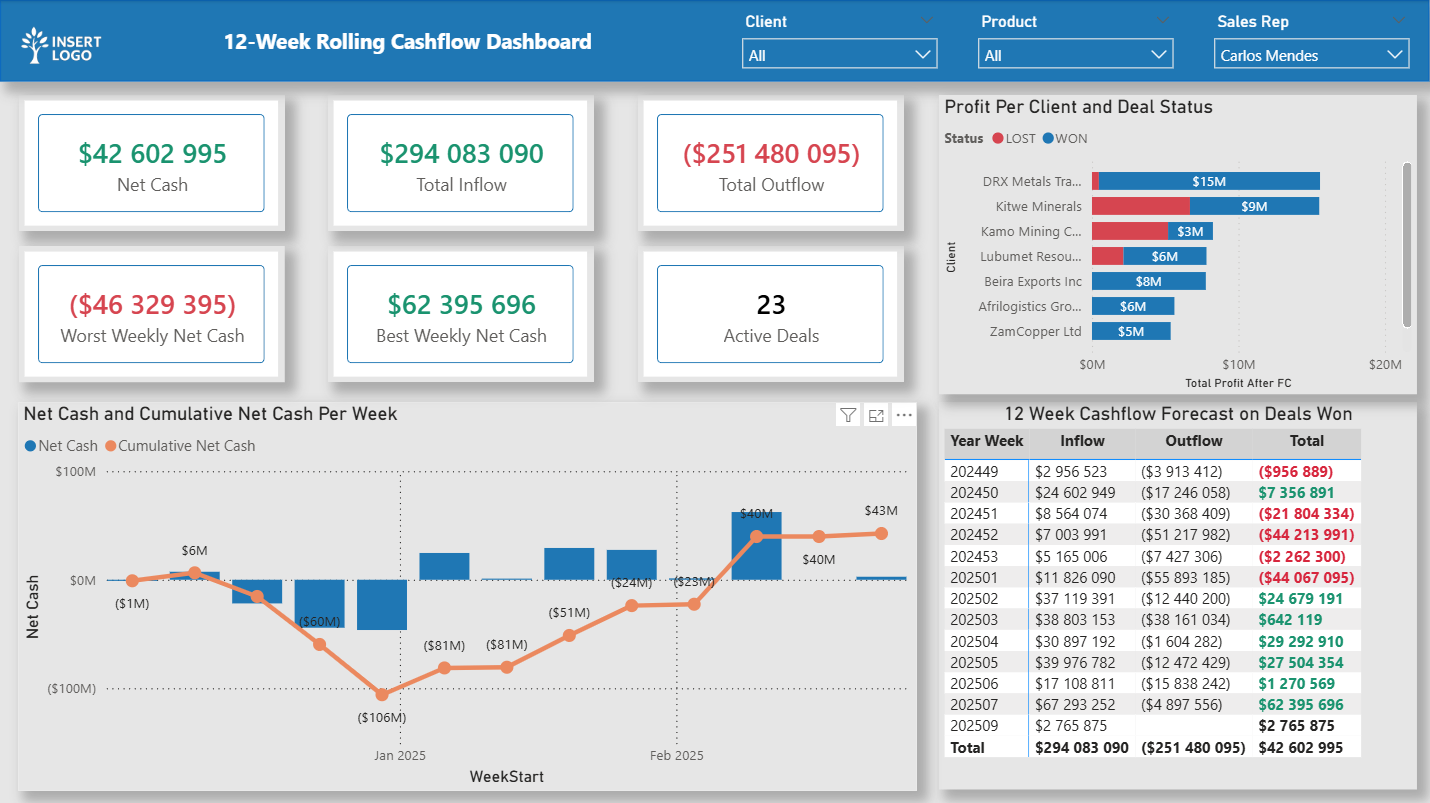

Layout of this report page (visuals, bound fields, positions):
{"tool":"powerbi","page":{"name":"12-Week Rolling Cashflow","canvas":[1280,720],"ordinal":0},"visuals":[{"type":"shape","title":"12-Week Rolling Cashflow Dashboard.","box":[0,0,1280,72.9],"z":0},{"type":"cardVisual","fields":{"Data":["Measure_Tbl.Total Outflow"]},"box":[571.4,85.2,237.7,122],"z":0,"group":"g2"},{"type":"cardVisual","fields":{"Data":["Measure_Tbl.Active Deals"]},"box":[571.4,219.9,237.7,122],"z":0,"group":"g3"},{"type":"cardVisual","fields":{"Data":["Measure_Tbl.Total Inflow"]},"box":[294.3,85.2,237.7,122],"z":1000,"group":"g2"},{"type":"cardVisual","fields":{"Data":["Measure_Tbl.Best Weekly Net Cash"]},"box":[294.3,219.9,237.7,122],"z":1000,"group":"g3"},{"type":"pivotTable","title":"12 Week Cashflow Forecast on Deals Won","fields":{"Columns":["cashflow_12week.type"],"Values":["Sum(cashflow_12week.weekly_amount)"],"Rows":["Calendar.YearWeek"]},"box":[841,359.7,428.4,347],"z":1000},{"type":"cardVisual","fields":{"Data":["Measure_Tbl.Net Cash"]},"box":[17.2,85.2,237.7,122],"z":2000,"group":"g2"},{"type":"cardVisual","fields":{"Data":["Measure_Tbl.Worst Weekly Net Cash"]},"box":[17.2,219.9,237.7,122],"z":2000,"group":"g3"},{"type":"lineStackedColumnComboChart","title":"Net Cash and Cumulative Net Cash Per Week","fields":{"Category":["Calendar.WeekStart"],"Y":["Measure_Tbl.Net Cash"],"Y2":["Measure_Tbl.Cumulative Net Cash"]},"box":[16.5,359.7,804.6,348.3],"z":2000},{"type":"slicer","fields":{"Values":["client.client_name"]},"box":[654.6,5.8,194.5,61.3],"z":3000,"group":"g1"},{"type":"barChart","title":"Profit Per Client and Deal Status","fields":{"Category":["client.client_name"],"Y":["Measure_Tbl.Total Profit After FC"],"Series":["deal_status.status_code"]},"box":[841,85.2,428.4,268.2],"z":3000},{"type":"group","id":"g1","title":"Group 1","box":[654.6,5.8,617.6,61.3],"z":4000},{"type":"slicer","fields":{"Values":["product.product_name"]},"box":[866.2,5.8,194.5,61.3],"z":4000,"group":"g1"},{"type":"image","box":[0,0,110,84.8],"z":5000},{"type":"slicer","fields":{"Values":["sales_rep.sales_rep_name"]},"box":[1077.7,5.8,194.5,61.3],"z":5000,"group":"g1"},{"type":"group","id":"g2","title":"Group 2","box":[17.2,85.2,791.9,122],"z":6000},{"type":"group","id":"g3","title":"Group 2","box":[17.2,219.9,791.9,122],"z":7000}]}

Visuals, with their boxes in screenshot pixels (x1, y1, x2, y2), scaled from the page's 1280x720 canvas onto the 1430x803 screenshot:
"12-Week Rolling Cashflow Dashboard." shape: [x1=0, y1=0, x2=1429, y2=81]
cardVisual - Measure_Tbl.Total Outflow: [x1=638, y1=95, x2=904, y2=231]
cardVisual - Measure_Tbl.Active Deals: [x1=638, y1=245, x2=904, y2=381]
cardVisual - Measure_Tbl.Total Inflow: [x1=329, y1=95, x2=594, y2=231]
cardVisual - Measure_Tbl.Best Weekly Net Cash: [x1=329, y1=245, x2=594, y2=381]
"12 Week Cashflow Forecast on Deals Won" pivotTable: [x1=940, y1=401, x2=1418, y2=788]
cardVisual - Measure_Tbl.Net Cash: [x1=19, y1=95, x2=285, y2=231]
cardVisual - Measure_Tbl.Worst Weekly Net Cash: [x1=19, y1=245, x2=285, y2=381]
"Net Cash and Cumulative Net Cash Per Week" lineStackedColumnComboChart: [x1=18, y1=401, x2=917, y2=790]
slicer - client.client_name: [x1=731, y1=6, x2=949, y2=75]
"Profit Per Client and Deal Status" barChart: [x1=940, y1=95, x2=1418, y2=394]
"Group 1" group: [x1=731, y1=6, x2=1421, y2=75]
slicer - product.product_name: [x1=968, y1=6, x2=1185, y2=75]
image: [x1=0, y1=0, x2=123, y2=95]
slicer - sales_rep.sales_rep_name: [x1=1204, y1=6, x2=1421, y2=75]
"Group 2" group: [x1=19, y1=95, x2=904, y2=231]
"Group 2" group: [x1=19, y1=245, x2=904, y2=381]
